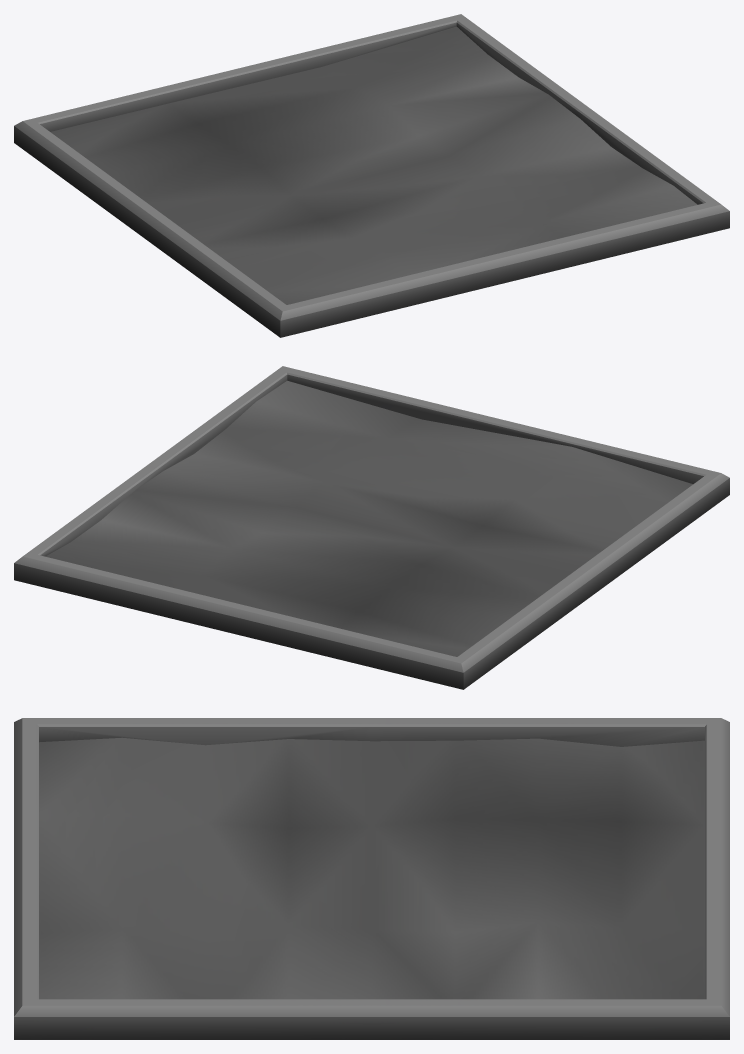
The model's file is FarmPlotSquare2_MESH_01.fbx.
The picture shows the model from 3 angles, top to bottom: view 1: azimuth 30°, elevation 25°; view 2: azimuth 150°, elevation 25°; view 3: azimuth 270°, elevation 25°; orthographic projection. The views are drawn at different scales.
Parts seen in each view (by area): view 1: FarmPlotSquare2_MESH_01; view 2: FarmPlotSquare2_MESH_01; view 3: FarmPlotSquare2_MESH_01.
Part boxes in pixels (left/top/right/bottom): FarmPlotSquare2_MESH_01: left=14, top=14, right=729, bottom=337; FarmPlotSquare2_MESH_01: left=14, top=366, right=729, bottom=689; FarmPlotSquare2_MESH_01: left=14, top=718, right=729, bottom=1039.
Size of the model in its own units: 1193 by 57.78 by 1224.
